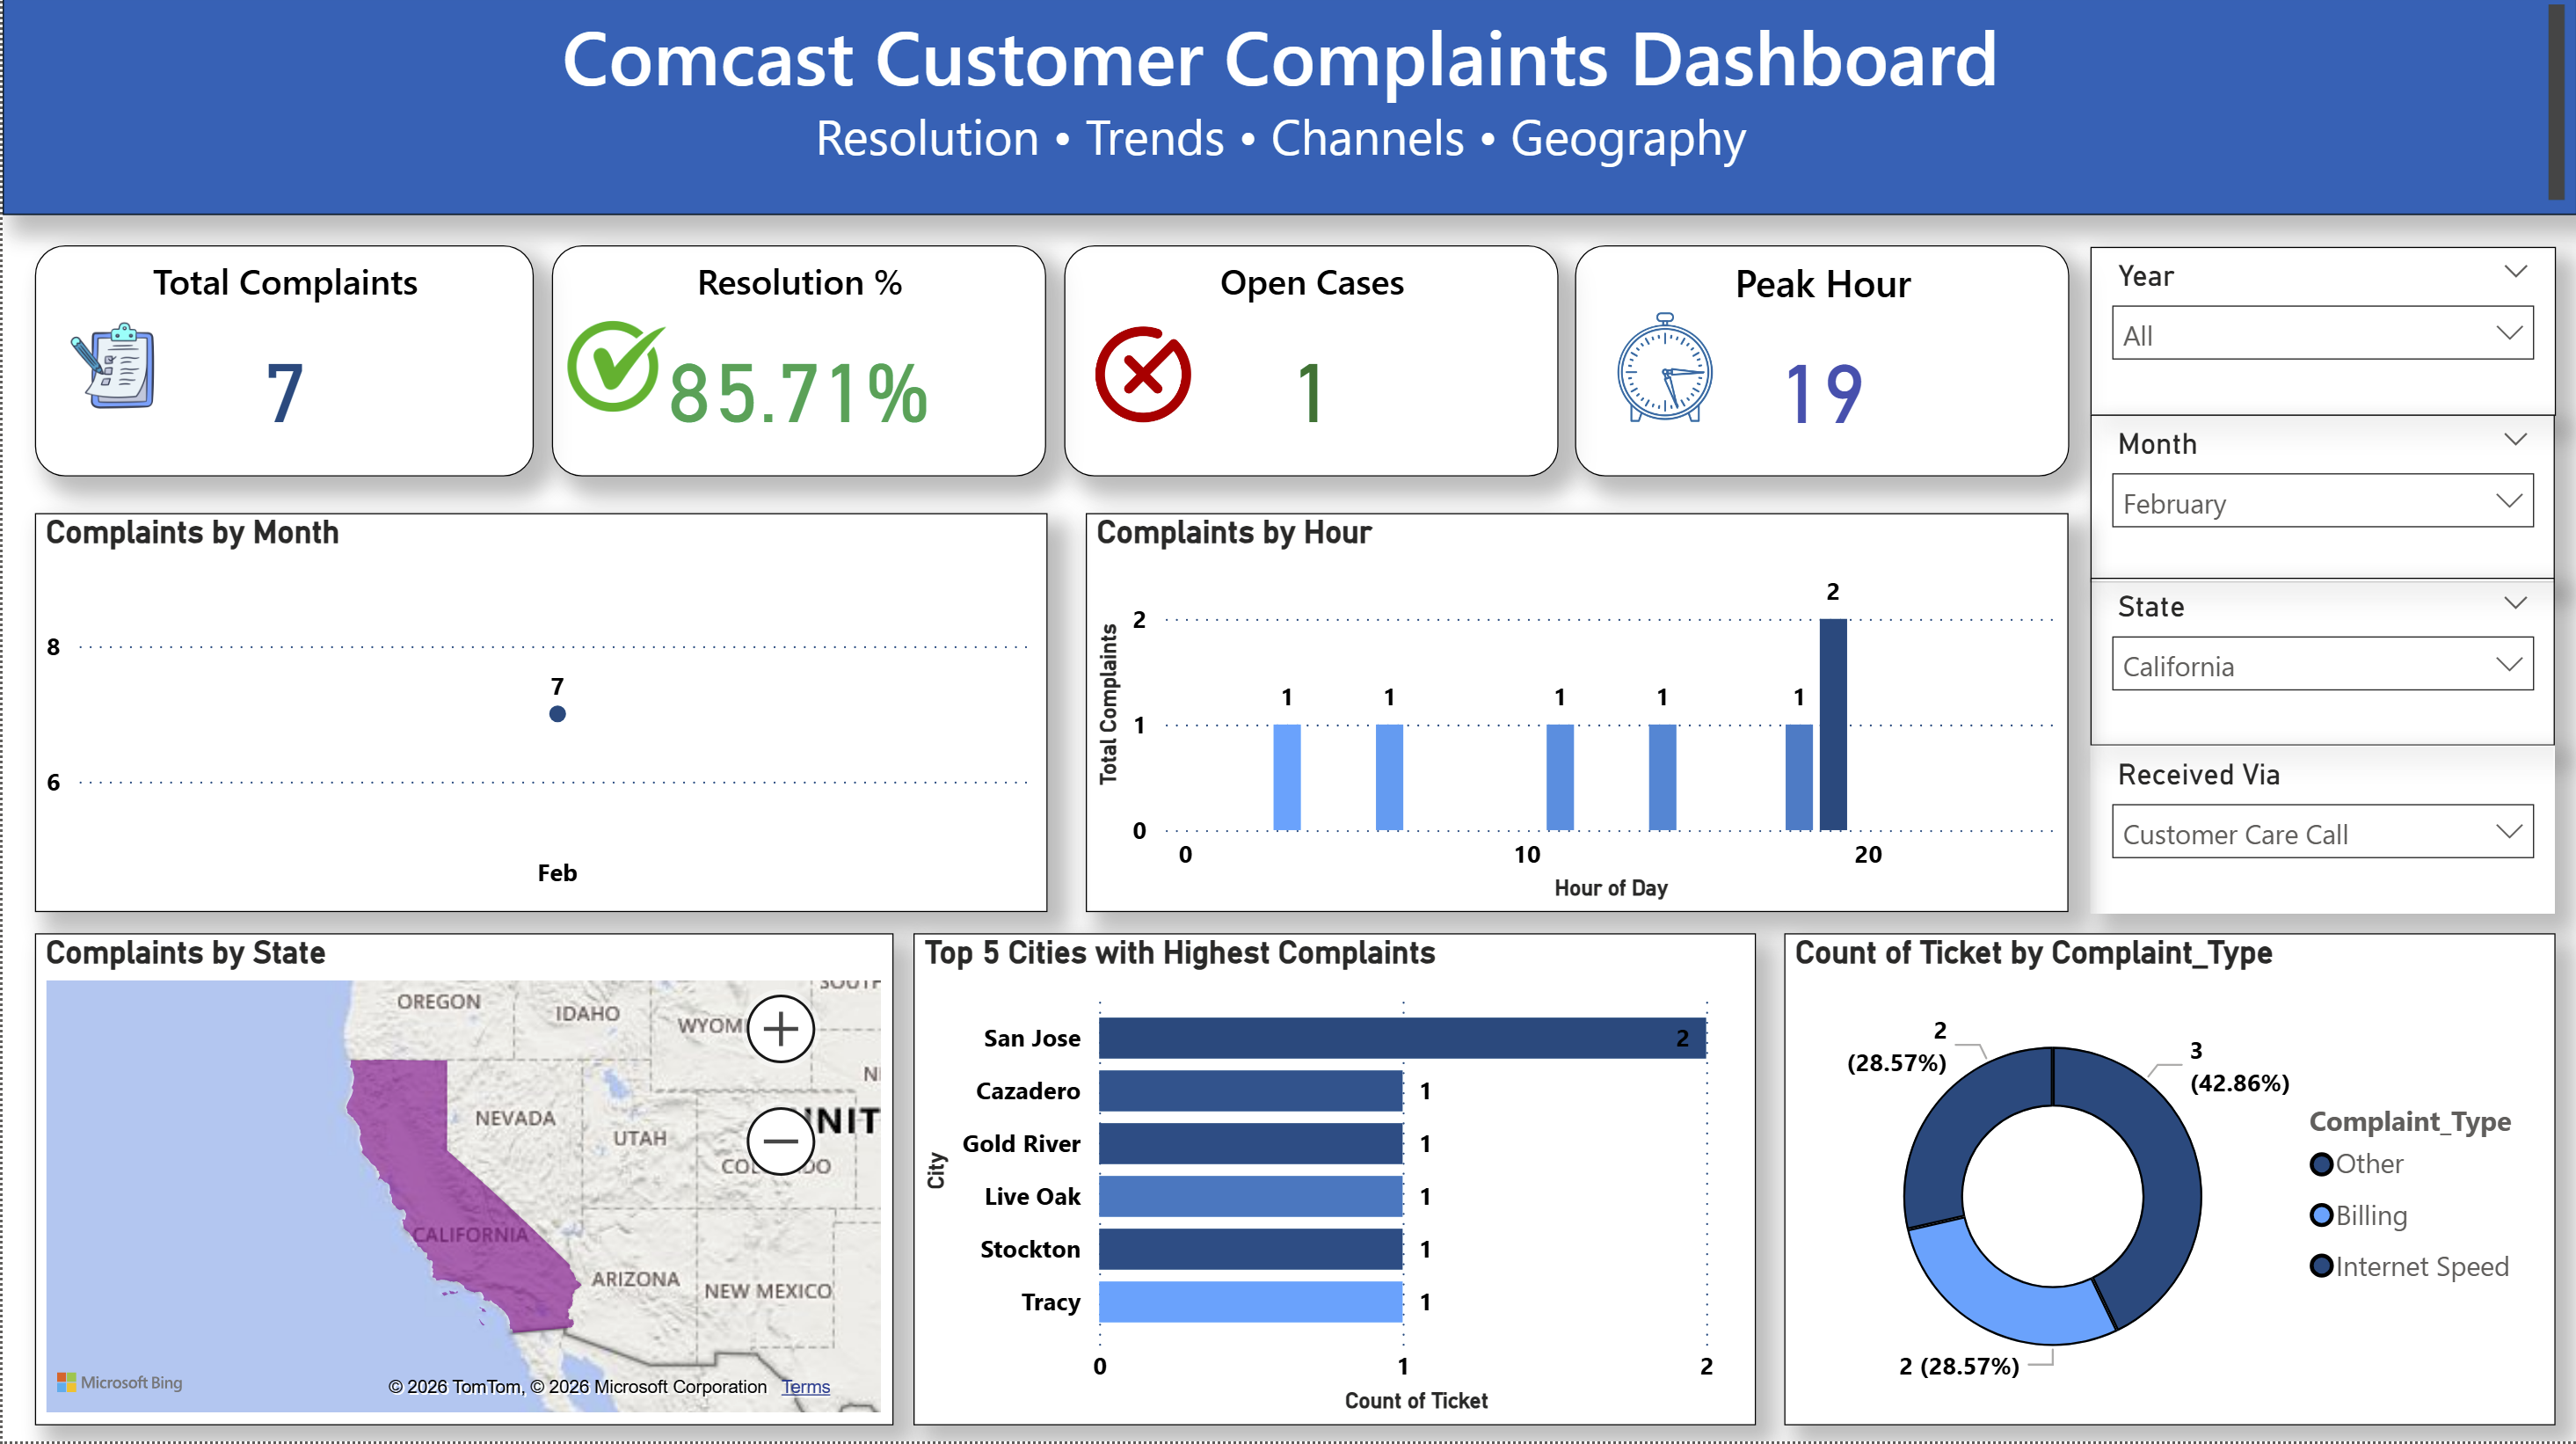

This screenshot's page, from the dashboard's own definition file:
{"tool":"powerbi","page":{"name":"Page 1","canvas":[1280,720],"ordinal":0},"visuals":[{"type":"textbox","box":[0,0,1280,110.1],"z":0},{"type":"card","title":"Total Complaints","fields":{"Values":["Comcast.Total Complaints"]},"box":[15.7,125.8,248,114.9],"z":1000},{"type":"card","title":"Resolution %","fields":{"Values":["Comcast.Resolution %"]},"box":[273.4,125.8,245.6,114.9],"z":2000},{"type":"card","title":"Open Cases","fields":{"Values":["Comcast.Open Cases"]},"box":[527.5,125.8,245.6,114.9],"z":3000},{"type":"card","title":"Peak Hour","fields":{"Values":["Comcast.Peak Hour"]},"box":[781.6,125.8,245.6,114.9],"z":4000},{"type":"slicer","fields":{"Values":["Comcast.Date.Variation.Date Hierarchy.Year"]},"box":[1038.3,126.4,231.3,84.3],"z":5000},{"type":"slicer","fields":{"Values":["Comcast.Date.Variation.Date Hierarchy.Month"]},"box":[1038,209.3,231.1,83.5],"z":6000},{"type":"slicer","fields":{"Values":["Comcast.State"]},"box":[1038,290.4,231.1,83.5],"z":7000},{"type":"slicer","fields":{"Values":["Comcast.Received Via"]},"box":[1038,373.8,231.1,83.5],"z":8000},{"type":"clusteredColumnChart","title":"Complaints by Hour","fields":{"Category":["Comcast.Hour"],"Y":["CountNonNull(Comcast.Ticket)"]},"box":[538.4,258.9,488.8,198.4],"z":9000},{"type":"lineChart","title":"Complaints by Month","fields":{"Category":["Comcast.Month Name1"],"Y":["CountNonNull(Comcast.Ticket)"]},"box":[15.7,258.9,503.3,198.4],"z":10000},{"type":"filledMap","title":"Complaints by State","fields":{"Category":["Comcast.State"],"Series":["Comcast.Ticket"]},"box":[15.7,467,427.1,244.4],"z":11000},{"type":"barChart","title":"Top 5 Cities with Highest Complaints","fields":{"Y":["CountNonNull(Comcast.Ticket)"],"Category":["Comcast.City"]},"box":[452.5,467,418.6,244.4],"z":12000},{"type":"donutChart","fields":{"Category":["Comcast.Complaint_Type"],"Y":["CountNonNull(Comcast.Ticket)"]},"box":[885.6,467,383.5,244.4],"z":13000},{"type":"image","box":[24.3,160.1,59.9,50.6],"z":14000},{"type":"image","box":[278.1,160.1,53.4,51.5],"z":15000},{"type":"image","box":[538.3,160.1,57.1,59.9],"z":16000},{"type":"image","box":[782.7,154.5,88,62.7],"z":17000}]}

Visuals, with their boxes in screenshot pixels (x1, y1, x2, y2), scaled from the page's 1280x720 canvas onto the 2576x1444 screenshot:
textbox: bbox=[0, 0, 2575, 221]
"Total Complaints" card: bbox=[32, 252, 531, 483]
"Resolution %" card: bbox=[550, 252, 1044, 483]
"Open Cases" card: bbox=[1061, 252, 1556, 483]
"Peak Hour" card: bbox=[1573, 252, 2067, 483]
slicer - Comcast.Date.Variation.Date Hierarchy.Year: bbox=[2090, 253, 2555, 423]
slicer - Comcast.Date.Variation.Date Hierarchy.Month: bbox=[2089, 419, 2554, 587]
slicer - Comcast.State: bbox=[2089, 582, 2554, 750]
slicer - Comcast.Received Via: bbox=[2089, 749, 2554, 917]
"Complaints by Hour" clusteredColumnChart: bbox=[1083, 519, 2067, 917]
"Complaints by Month" lineChart: bbox=[32, 519, 1044, 917]
"Complaints by State" filledMap: bbox=[32, 937, 891, 1426]
"Top 5 Cities with Highest Complaints" barChart: bbox=[911, 937, 1753, 1426]
donutChart - Comcast.Complaint_Type x CountNonNull(Comcast.Ticket): bbox=[1782, 937, 2554, 1426]
image: bbox=[49, 321, 170, 423]
image: bbox=[560, 321, 667, 425]
image: bbox=[1083, 321, 1198, 441]
image: bbox=[1575, 310, 1752, 435]
